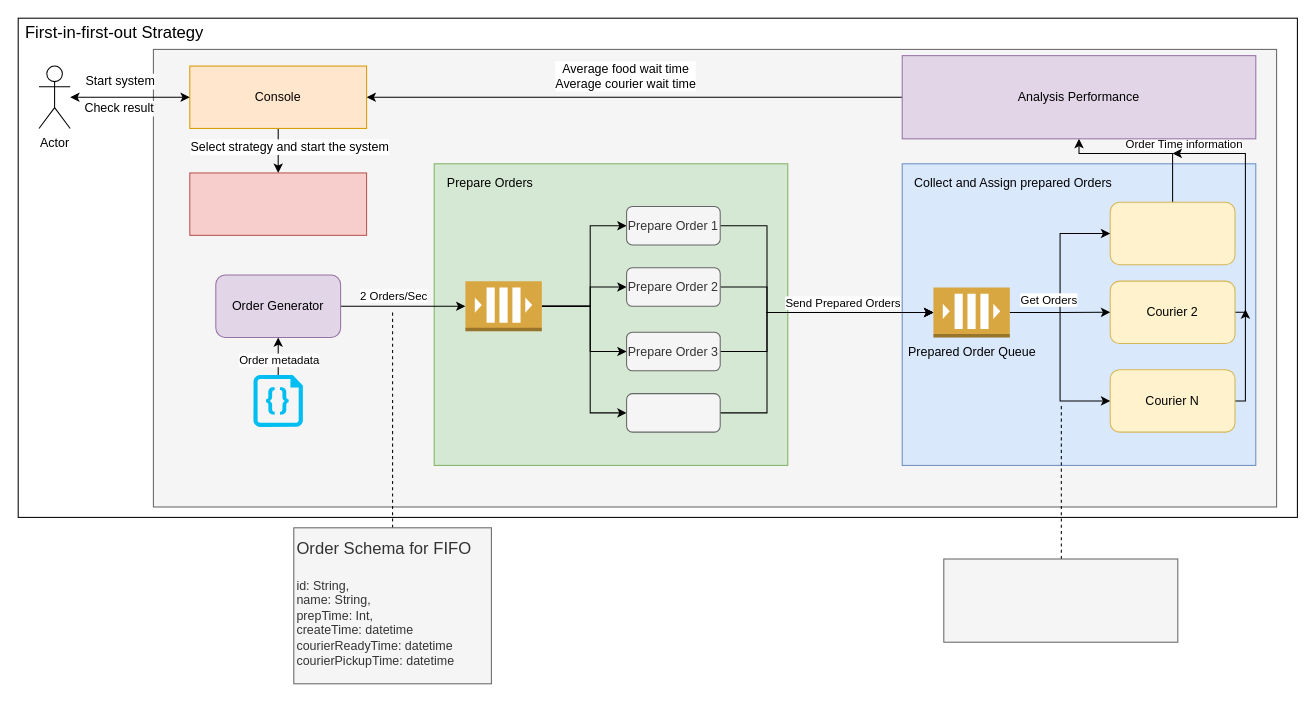
This 1316x704 diagram has some shape labels left out. The centre of each missing label's shape, as x and y in pixels:
Controller (initialise and start the system): the point at 278,203
Courier 1: the point at 1172,233
Couriers will update related fields. 1. courierReadyTime 2. courierPickupTime: the point at 1060,600
Order Queue: the point at 503,305
Orders (.json): the point at 277,400
Prepare Order x: the point at 673,412
